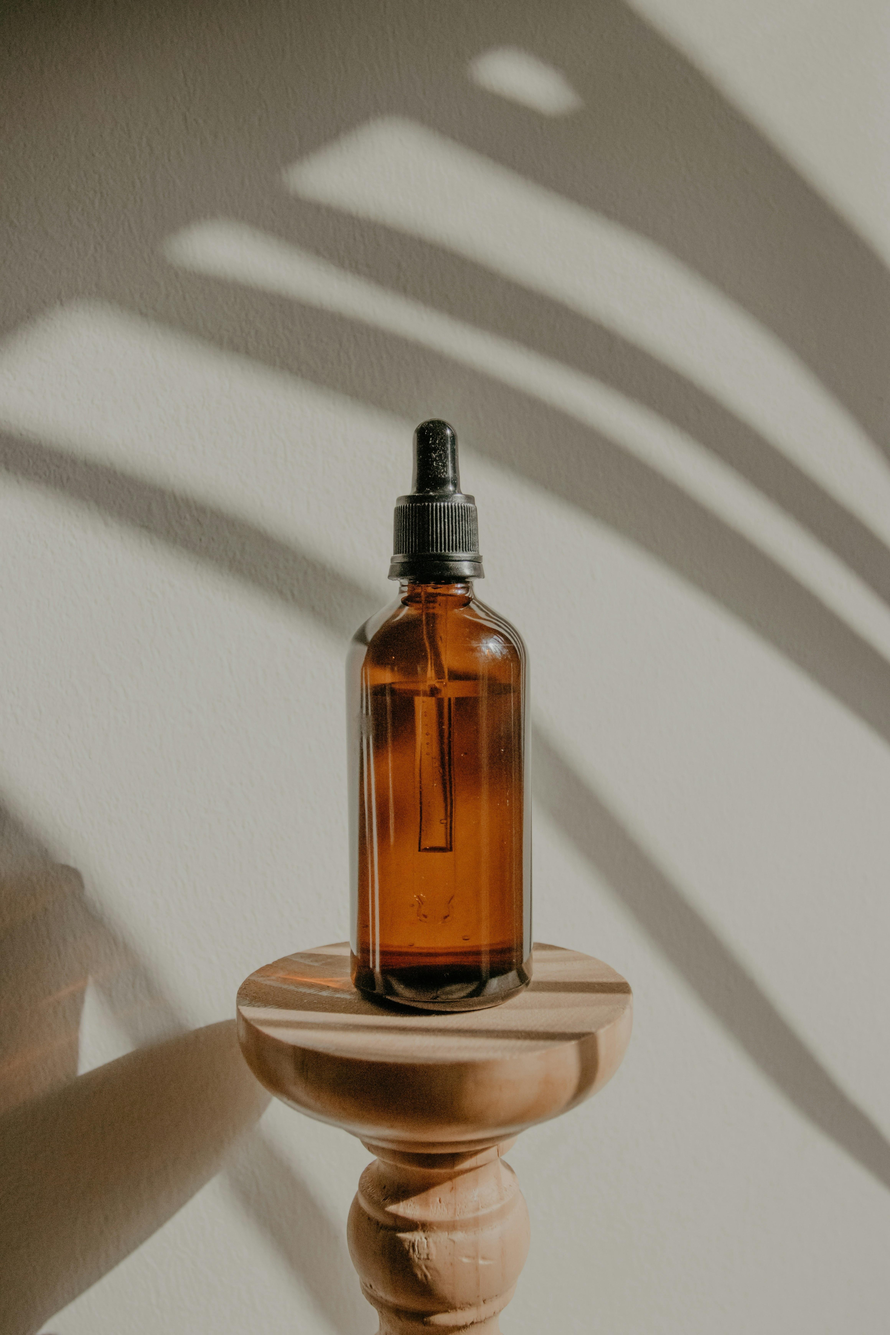Bottle-Detection: (288, 345, 581, 1051)
